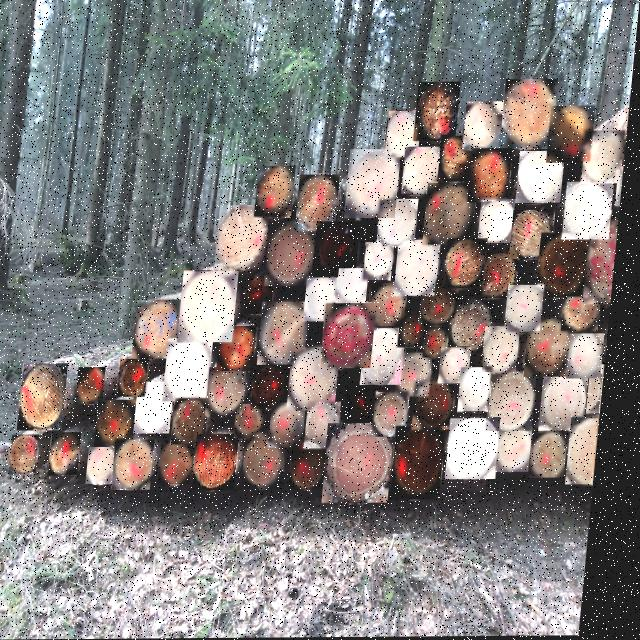wood-log: (336, 424, 402, 502), (187, 272, 241, 343), (402, 428, 453, 500), (350, 150, 403, 219), (505, 81, 558, 148), (221, 206, 272, 270), (330, 304, 381, 368), (457, 419, 508, 480), (545, 234, 593, 298), (28, 364, 74, 430), (429, 185, 479, 245), (298, 348, 345, 411), (273, 223, 319, 286), (173, 339, 218, 402), (496, 372, 543, 432), (267, 303, 313, 364), (569, 182, 616, 240), (533, 320, 579, 378), (141, 300, 186, 359), (550, 373, 594, 431), (591, 221, 621, 305), (418, 83, 461, 141), (203, 435, 247, 491), (319, 222, 363, 277), (401, 240, 444, 296), (552, 107, 595, 163), (521, 152, 567, 204), (370, 329, 411, 386), (302, 175, 342, 231), (473, 149, 514, 203), (457, 302, 499, 354), (253, 435, 293, 488), (515, 211, 558, 260), (586, 132, 627, 182), (422, 380, 462, 430), (451, 240, 491, 288), (144, 382, 181, 433), (577, 420, 606, 485), (260, 167, 298, 216), (215, 368, 253, 416), (124, 441, 162, 488), (383, 200, 421, 247), (467, 102, 503, 151), (406, 148, 444, 194), (105, 400, 142, 446), (485, 253, 522, 299), (442, 136, 478, 182), (540, 432, 576, 478), (512, 286, 548, 332), (300, 443, 335, 490), (226, 326, 262, 371), (382, 392, 417, 438), (182, 399, 215, 447), (278, 403, 313, 448), (428, 281, 463, 326), (491, 328, 526, 373), (260, 366, 296, 409), (569, 288, 605, 331), (390, 112, 423, 158), (377, 284, 412, 327), (315, 403, 347, 449), (485, 201, 519, 244), (507, 428, 540, 472), (577, 334, 609, 379), (405, 354, 439, 396), (467, 369, 500, 411), (312, 279, 344, 322), (353, 382, 385, 423), (59, 433, 89, 475), (169, 445, 201, 484), (19, 435, 47, 475), (126, 359, 155, 397), (370, 243, 399, 280), (251, 276, 279, 314), (343, 269, 373, 304), (447, 349, 477, 384), (84, 367, 112, 404), (97, 448, 124, 483), (244, 405, 272, 437), (407, 314, 434, 346), (431, 327, 454, 358), (595, 366, 610, 413), (620, 169, 626, 206)
